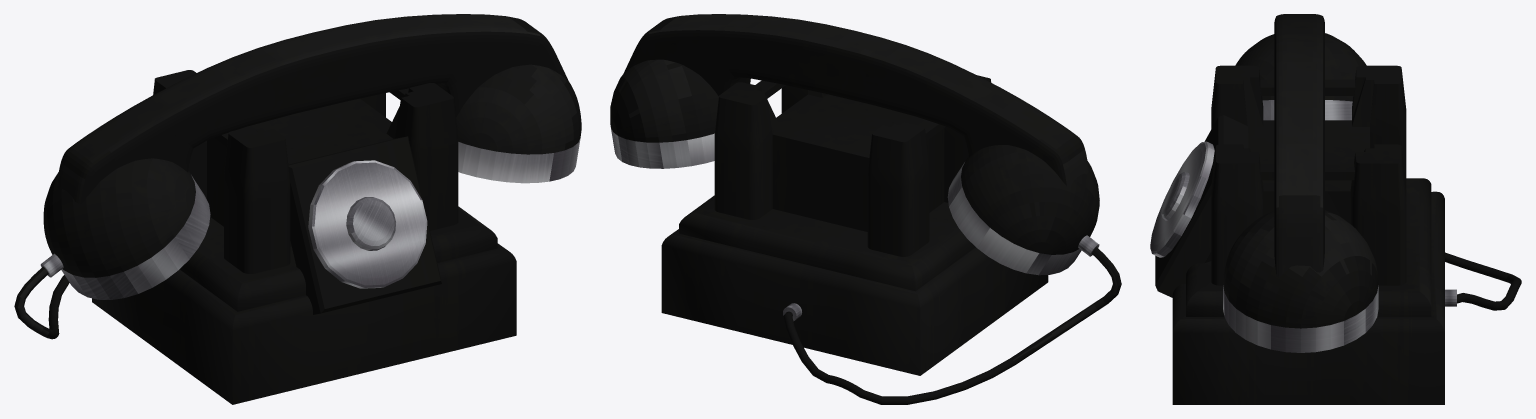
Rendered from phone3.FBX.
3 renders of one model, left to right at view 1: azimuth 30°, elevation 25°; view 2: azimuth 150°, elevation 25°; view 3: azimuth 270°, elevation 25°, orthographic. The views are drawn at different scales.
Parts seen in each view (by area): view 1: Box001, Object001, Object004, Object003; view 2: Box001, Object001, Object003, Object002; view 3: Box001, Object001, Object004, Object003.
Boxes of the visible parts, x1,y1,x2,y2 form: Box001: [92, 70, 516, 404]; Object001: [43, 14, 581, 299]; Object004: [308, 160, 427, 288]; Object003: [14, 267, 69, 339]; Box001: [661, 75, 1048, 375]; Object001: [610, 14, 1099, 275]; Object003: [783, 247, 1121, 404]; Object002: [783, 235, 1099, 321]; Box001: [1155, 65, 1444, 404]; Object001: [1223, 14, 1378, 352]; Object004: [1150, 141, 1214, 257]; Object003: [1445, 252, 1521, 310].
Bounding box in the file's own units: 136 × 68.25 × 81.8.
Materials: 1 (1 with a texture image).
